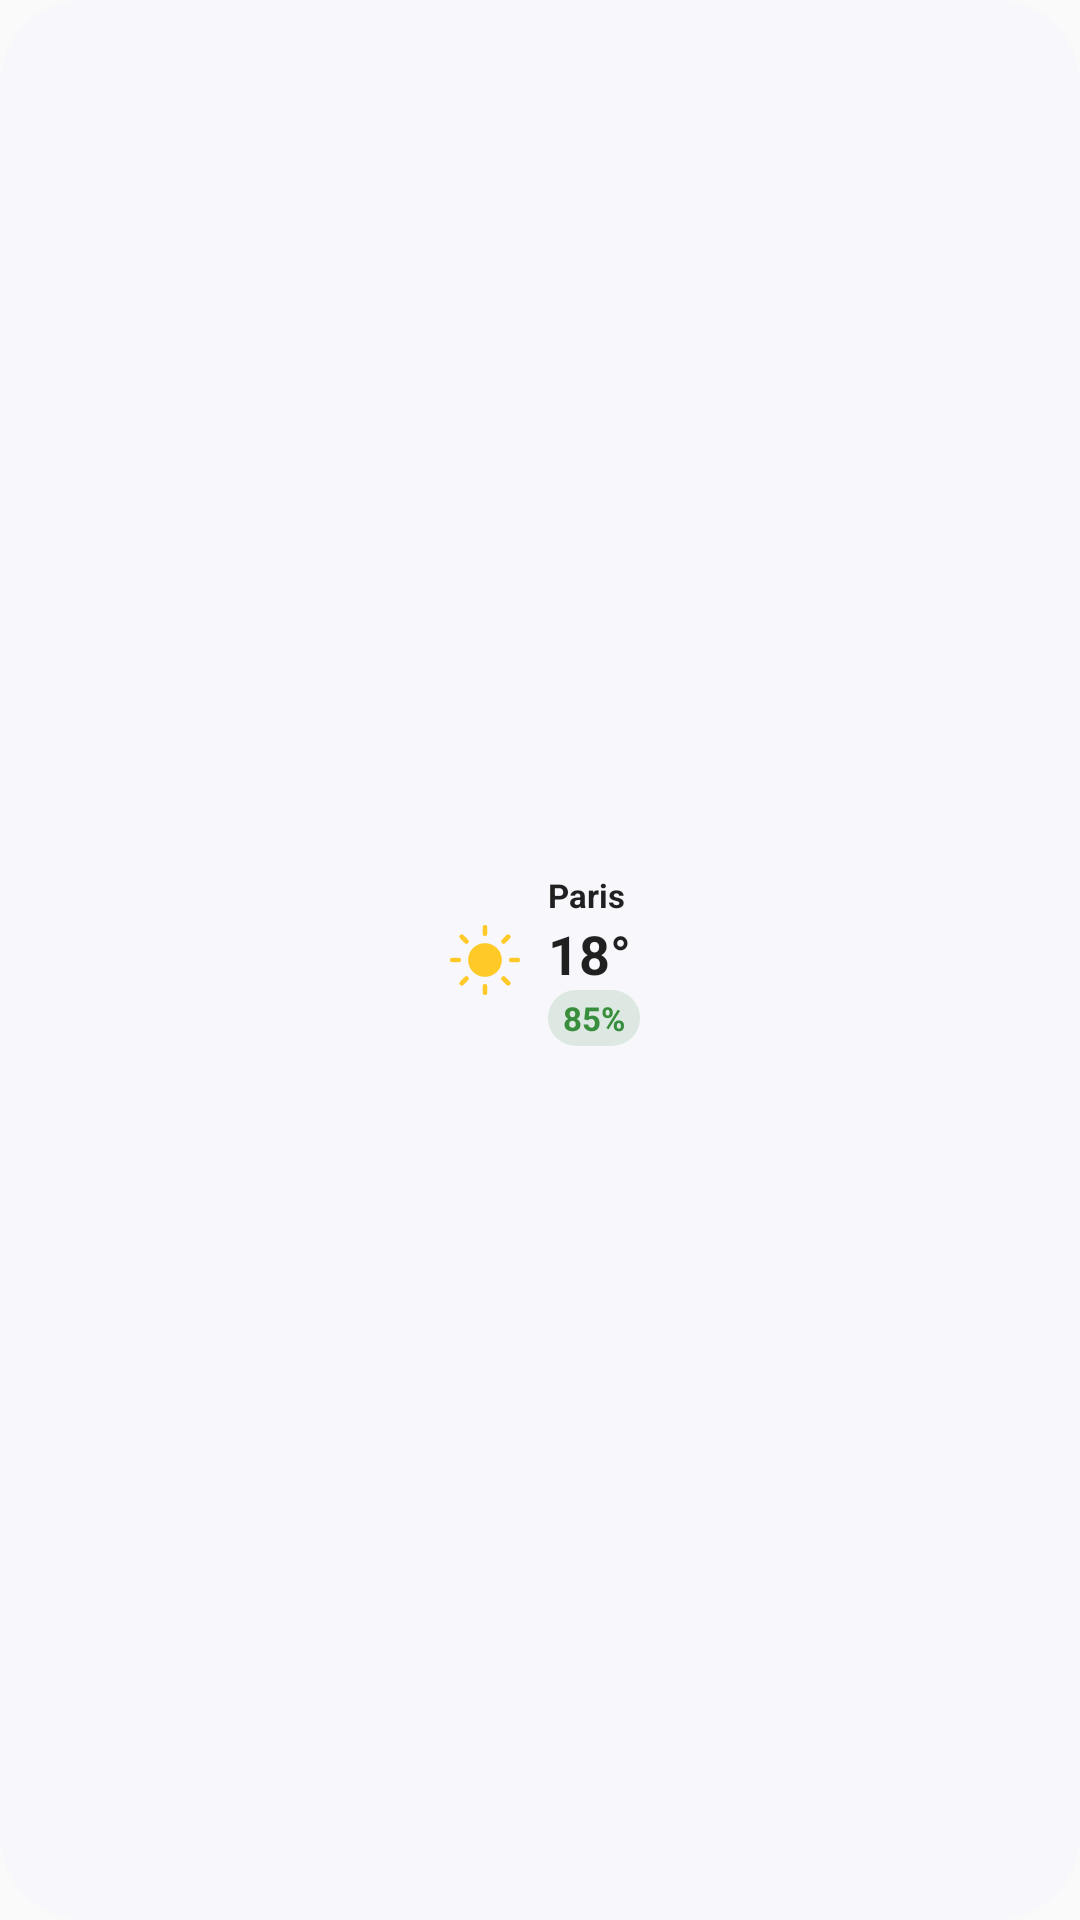

Point at icon controls on the screen. Image size 1080×1920, points as (x=x, y=y).
widget weather sun: (x=485, y=960)
